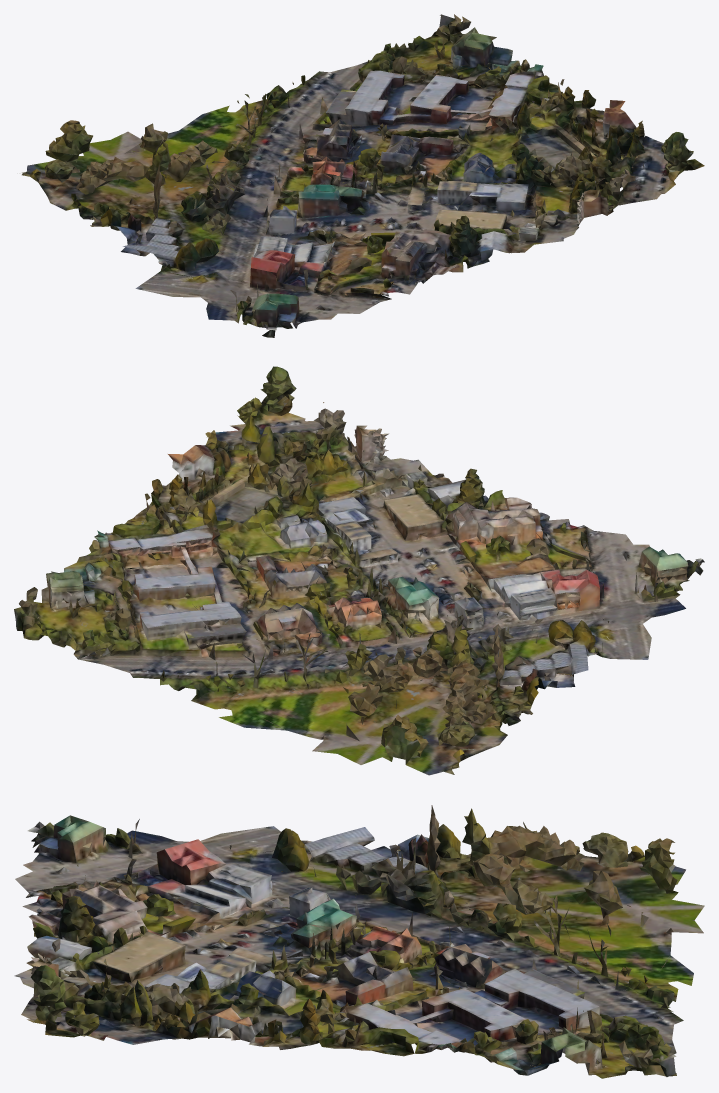
The model's file is Tile_013_010_L17.gltf.
The picture shows the model from 3 angles, top to bottom: view 1: azimuth 30°, elevation 25°; view 2: azimuth 150°, elevation 25°; view 3: azimuth 270°, elevation 25°; orthographic projection. The views are drawn at different scales.
Visible parts, largest first — view 1: Tile_+013_+010_L17; view 2: Tile_+013_+010_L17; view 3: Tile_+013_+010_L17.
Boxes of the visible parts, x1,y1,x2,y2 form: Tile_+013_+010_L17: (22, 14, 704, 337); Tile_+013_+010_L17: (14, 366, 704, 775); Tile_+013_+010_L17: (14, 805, 704, 1078).
Bounding box in the file's own units: 227 × 53.92 × 220.
Materials: 1 (1 with a texture image).
